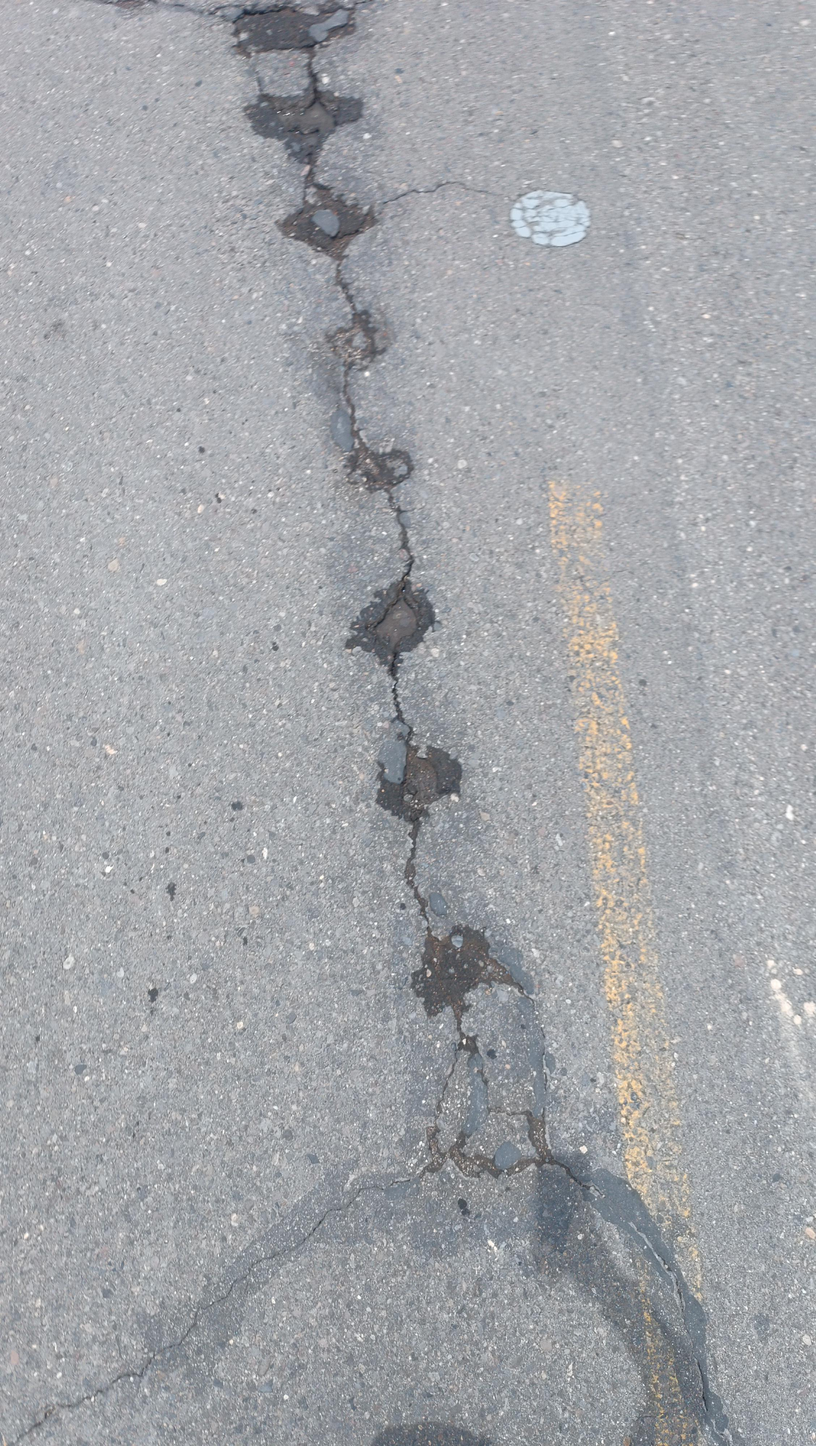GRIETA: (272, 91, 506, 1177), (505, 974, 734, 1446), (12, 1178, 412, 1444), (449, 1037, 486, 1151), (377, 180, 501, 207), (450, 1152, 542, 1181)
PIEL DE COCODRILO: (144, 0, 395, 101)
